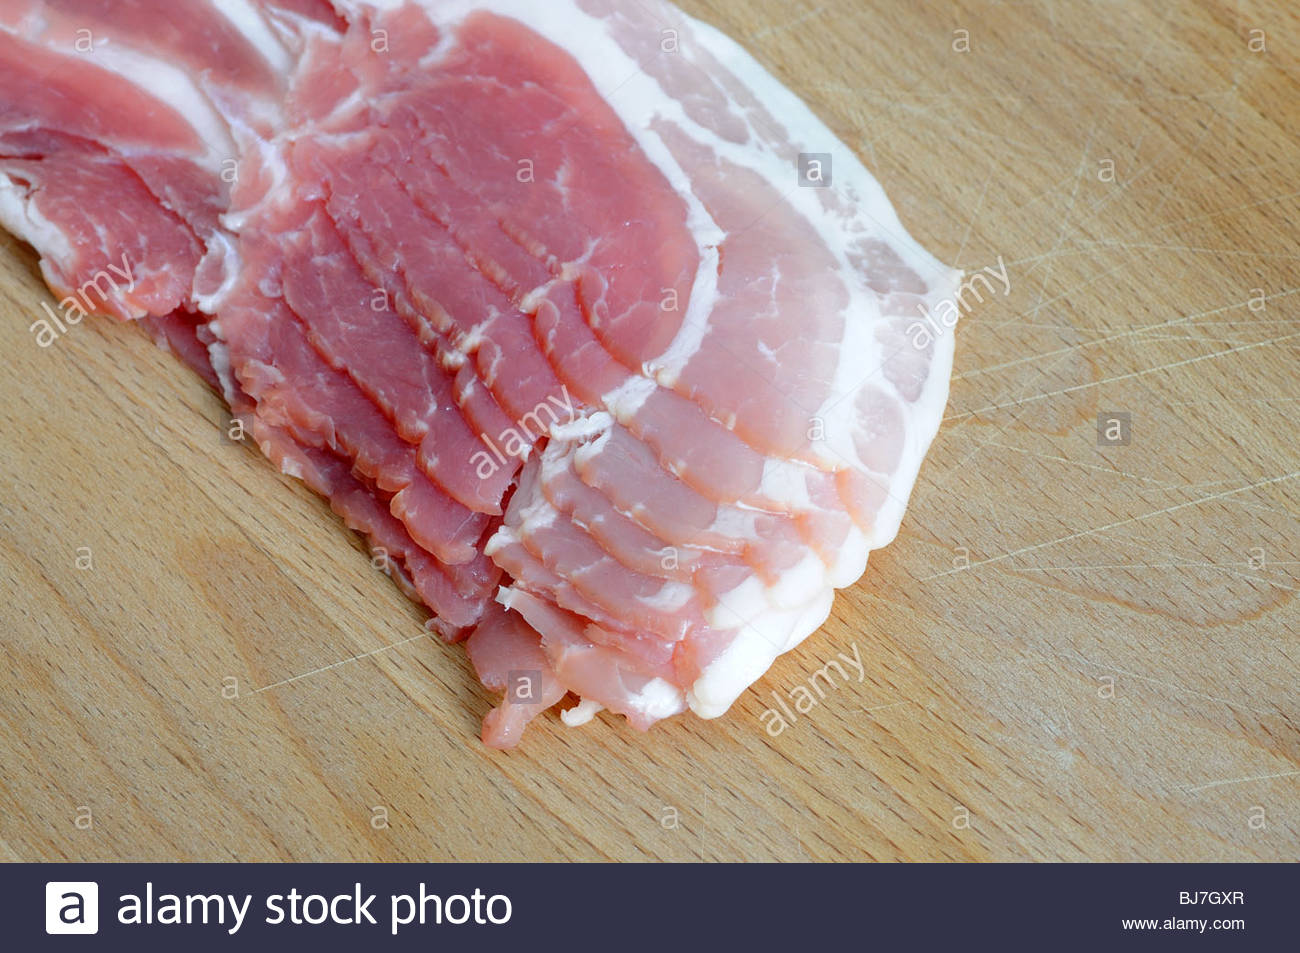bacon: (71, 1, 982, 744)
